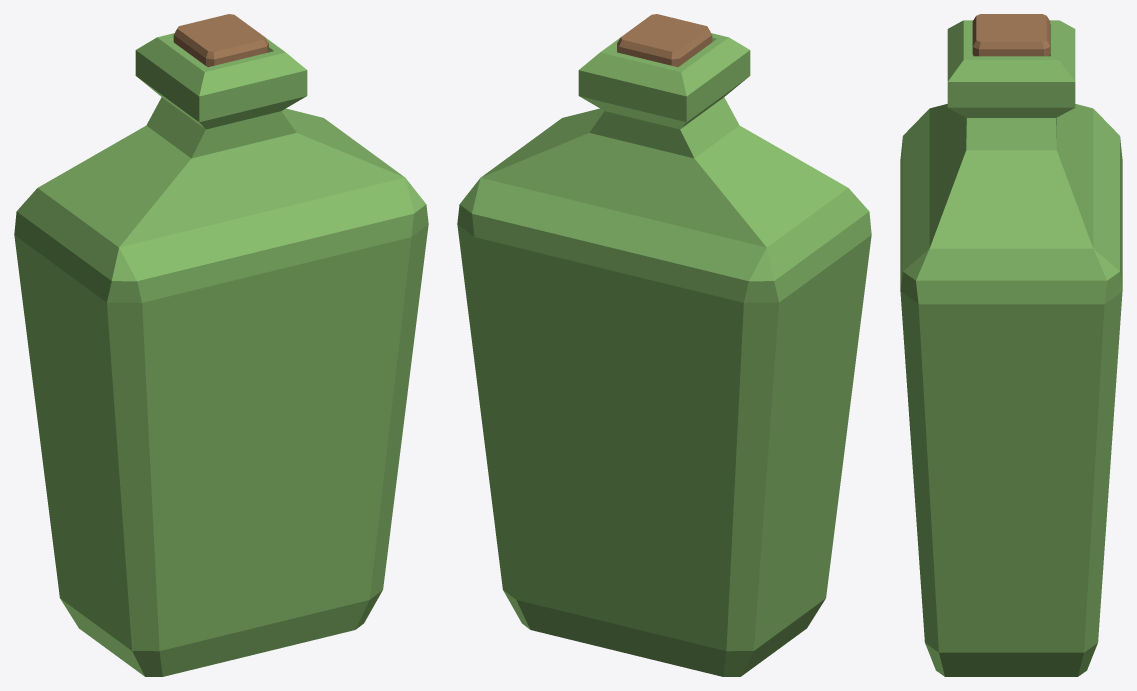
Rendered from Green_Potion_10.fbx.
The picture shows the model from 3 angles, left to right: view 1: azimuth 30°, elevation 25°; view 2: azimuth 150°, elevation 25°; view 3: azimuth 270°, elevation 25°; orthographic projection.
Parts seen in each view (by area): view 1: Green_Potion_10; view 2: Green_Potion_10; view 3: Green_Potion_10.
Boxes of the visible parts, bbox=[...] form: Green_Potion_10: bbox=[14, 14, 428, 676]; Green_Potion_10: bbox=[457, 14, 871, 676]; Green_Potion_10: bbox=[900, 14, 1122, 676].
Size of the model in its own units: 22.96 by 40.43 by 13.67.
